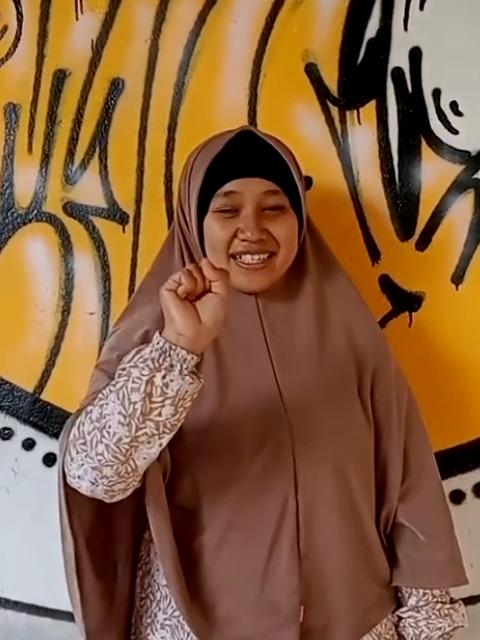S: (155, 256, 237, 342)
